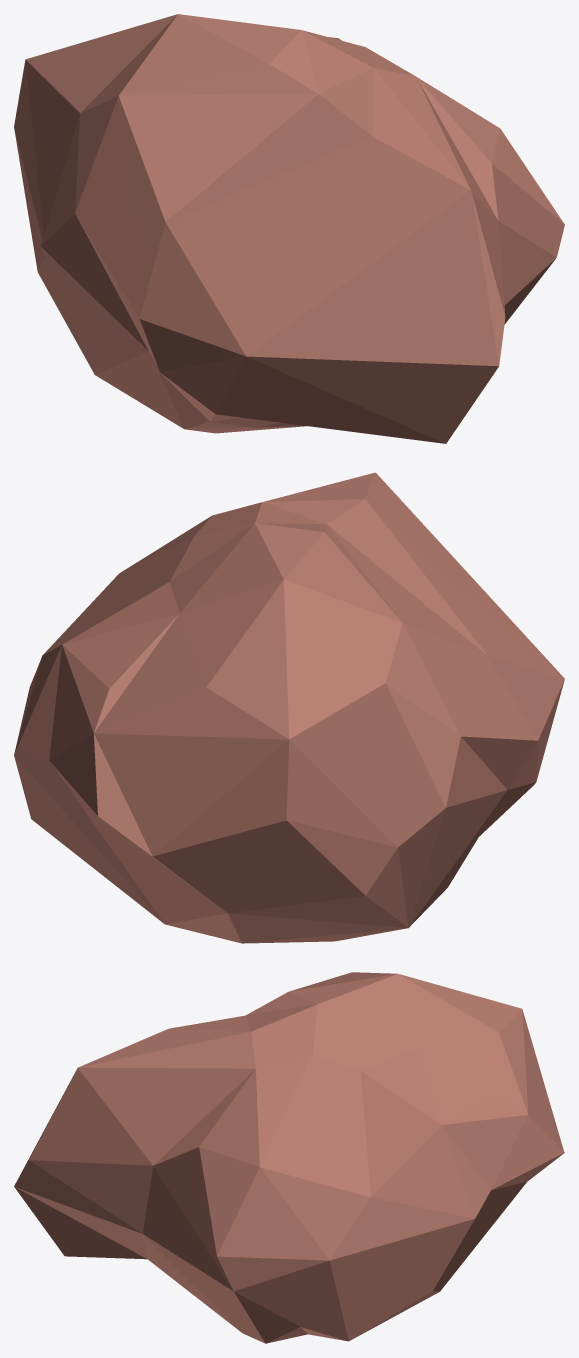
The model's file is Rock4-col.glb.
3 views of the same model, one above another, from view 1: azimuth 30°, elevation 25°; view 2: azimuth 150°, elevation 25°; view 3: azimuth 270°, elevation 25° (orthographic). The views are drawn at different scales.
Parts seen in each view (by area): view 1: Rock4-col; view 2: Rock4-col; view 3: Rock4-col.
Boxes of the visible parts, x1,y1,x2,y2 form: Rock4-col: (14,14,564,443); Rock4-col: (14,472,564,943); Rock4-col: (14,972,564,1343).
Bounding box in the file's own units: 3.11 × 2.61 × 4.09.
